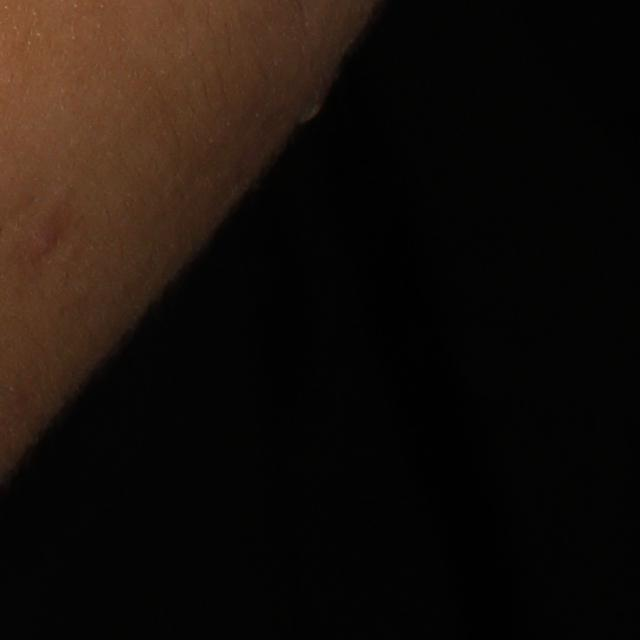papule: (290, 82, 333, 130), (21, 209, 62, 258)
